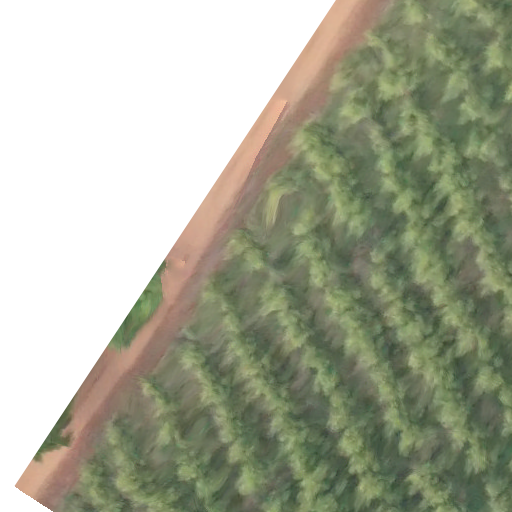eucalipto: (405, 457, 458, 508)
